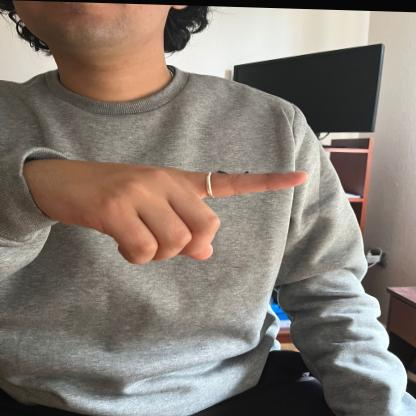S: (29, 142, 311, 270)
